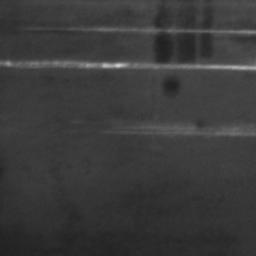Bright scratch: (0, 60, 256, 70), (68, 26, 256, 36)
